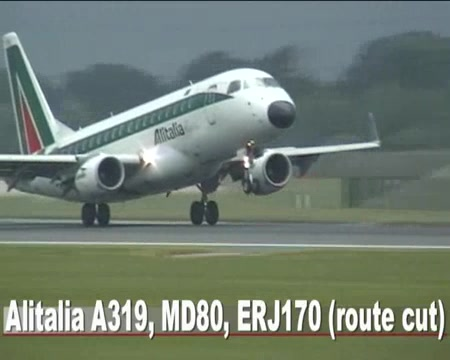aeroplane: (3, 32, 383, 228)
